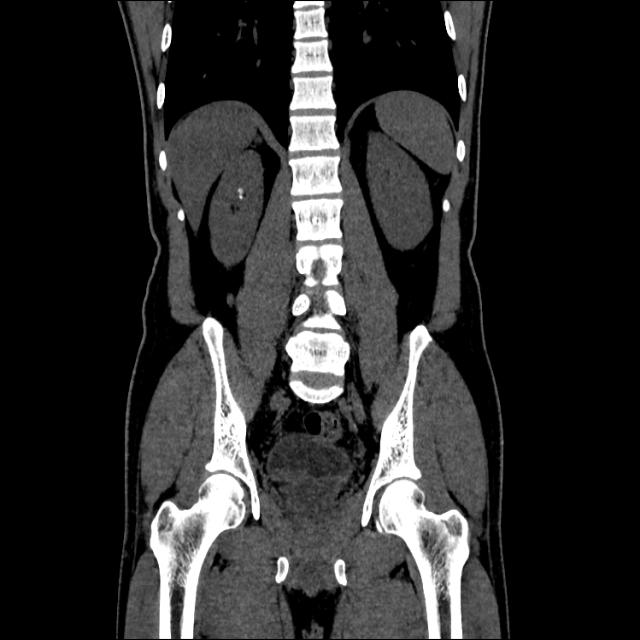kidney: (366, 134, 434, 251), (210, 148, 265, 268)
stone: (238, 186, 243, 199)
